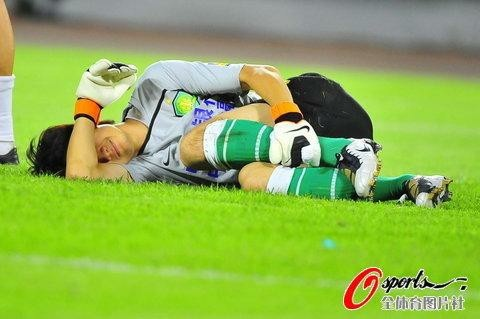falling: (29, 48, 448, 208)
